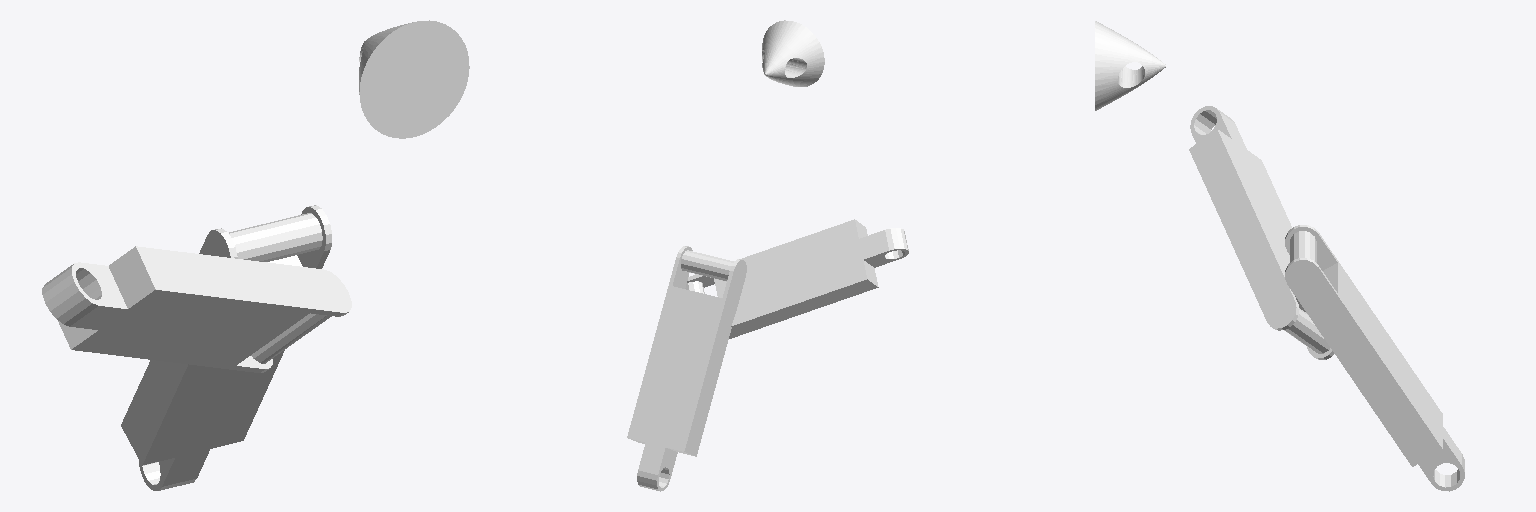
robot.urdf — 装配体1.SLDASM:
<?xml version="1.0" encoding="utf-8"?>
<!-- This URDF was automatically created by SolidWorks to URDF Exporter! Originally created by [author] ([email redacted]) 
     Commit Version: 1.6.0-1-g15f4949  Build Version: 1.6.7594.29634
     For more information, please see http://wiki.ros.org/sw_urdf_exporter -->
<robot
  name="装配体1.SLDASM">
  <link
    name="base_link">
    <inertial>
      <origin
        xyz="-5.33697411610613E-08 0.00905636336069728 1.09348092593686E-07"
        rpy="0 0 0" />
      <mass
        value="0.0242966213303676" />
      <inertia
        ixx="4.14304426468645E-06"
        ixy="-1.58937275139804E-11"
        ixz="4.10418855708697E-11"
        iyy="5.21482514169372E-06"
        iyz="4.07491105633841E-12"
        izz="3.90345154858799E-06" />
    </inertial>
    <visual>
      <origin
        xyz="0 0 0"
        rpy="0 0 0" />
      <geometry>
        <mesh
          filename="package://装配体1.SLDASM/meshes/base_link.STL" />
      </geometry>
      <material
        name="">
        <color
          rgba="1 1 1 1" />
      </material>
    </visual>
    <collision>
      <origin
        xyz="0 0 0"
        rpy="0 0 0" />
      <geometry>
        <mesh
          filename="package://装配体1.SLDASM/meshes/base_link.STL" />
      </geometry>
    </collision>
  </link>
  <link
    name="arm1">
    <inertial>
      <origin
        xyz="-0.0719606262598962 0.023 -0.01"
        rpy="0 0 0" />
      <mass
        value="0.117696902001295" />
      <inertia
        ixx="2.42775112556729E-05"
        ixy="7.58767758734718E-21"
        ixz="3.81164826264435E-20"
        iyy="0.000187883217446741"
        iyz="-1.86380941546696E-21"
        izz="0.000204535325427067" />
    </inertial>
    <visual>
      <origin
        xyz="0 0 0"
        rpy="0 0 0" />
      <geometry>
        <mesh
          filename="package://装配体1.SLDASM/meshes/arm1.STL" />
      </geometry>
      <material
        name="">
        <color
          rgba="1 1 1 1" />
      </material>
    </visual>
    <collision>
      <origin
        xyz="0 0 0"
        rpy="0 0 0" />
      <geometry>
        <mesh
          filename="package://装配体1.SLDASM/meshes/arm1.STL" />
      </geometry>
    </collision>
  </link>
  <joint
    name="joint1"
    type="continuous">
    <origin
      xyz="-0.023 0.027779243220604 0.00628357978501803"
      rpy="0 -0.891355692057456 -1.5707963267949" />
    <parent
      link="base_link" />
    <child
      link="arm1" />
    <axis
      xyz="0 1 0" />
  </joint>
  <link
    name="arm2">
    <inertial>
      <origin
        xyz="0.023 -0.0719606262598962 0.00999999999999999"
        rpy="0 0 0" />
      <mass
        value="0.117696902001295" />
      <inertia
        ixx="0.000187883217446741"
        ixy="1.03694523247143E-20"
        ixz="-5.10632073413205E-21"
        iyy="2.42775112556729E-05"
        iyz="8.470329472543E-22"
        izz="0.000204535325427067" />
    </inertial>
    <visual>
      <origin
        xyz="0 0 0"
        rpy="0 0 0" />
      <geometry>
        <mesh
          filename="package://装配体1.SLDASM/meshes/arm2.STL" />
      </geometry>
      <material
        name="">
        <color
          rgba="1 1 1 1" />
      </material>
    </visual>
    <collision>
      <origin
        xyz="0 0 0"
        rpy="0 0 0" />
      <geometry>
        <mesh
          filename="package://装配体1.SLDASM/meshes/arm2.STL" />
      </geometry>
    </collision>
  </link>
  <joint
    name="joint2"
    type="continuous">
    <origin
      xyz="-0.15124638730543 0 -7.79780949211918E-05"
      rpy="3.01662893946446 0 1.5707963267949" />
    <parent
      link="arm1" />
    <child
      link="arm2" />
    <axis
      xyz="1 0 0" />
  </joint>
</robot>

--- Facts derived from the render (not from the file) ---
3 views of the same robot in one strip: view 1: azimuth 30°, elevation 25°; view 2: azimuth 150°, elevation 25°; view 3: azimuth 270°, elevation 25° (orthographic).
Model 装配体1.SLDASM with 3 links and 2 joints (2 continuous), rooted at base_link, posed every joint at zero.
Visible links, largest first — view 1: arm1, arm2, base_link; view 2: arm2, arm1, base_link; view 3: arm2, arm1, base_link.
Boxes of the visible links, x1,y1,x2,y2 form: arm1: [42, 246, 351, 372]; arm2: [121, 205, 331, 490]; base_link: [359, 20, 469, 138]; arm2: [627, 246, 746, 491]; arm1: [685, 219, 908, 338]; base_link: [762, 20, 824, 86]; arm2: [1285, 225, 1464, 491]; arm1: [1189, 106, 1333, 359]; base_link: [1095, 21, 1165, 110].
Bounding box of the posed robot: 0.1609 × 0.2031 × 0.2791 m (x, y, z).
Meshes: 3 distinct files referenced, 3 mesh visuals loaded (3 binary STL).